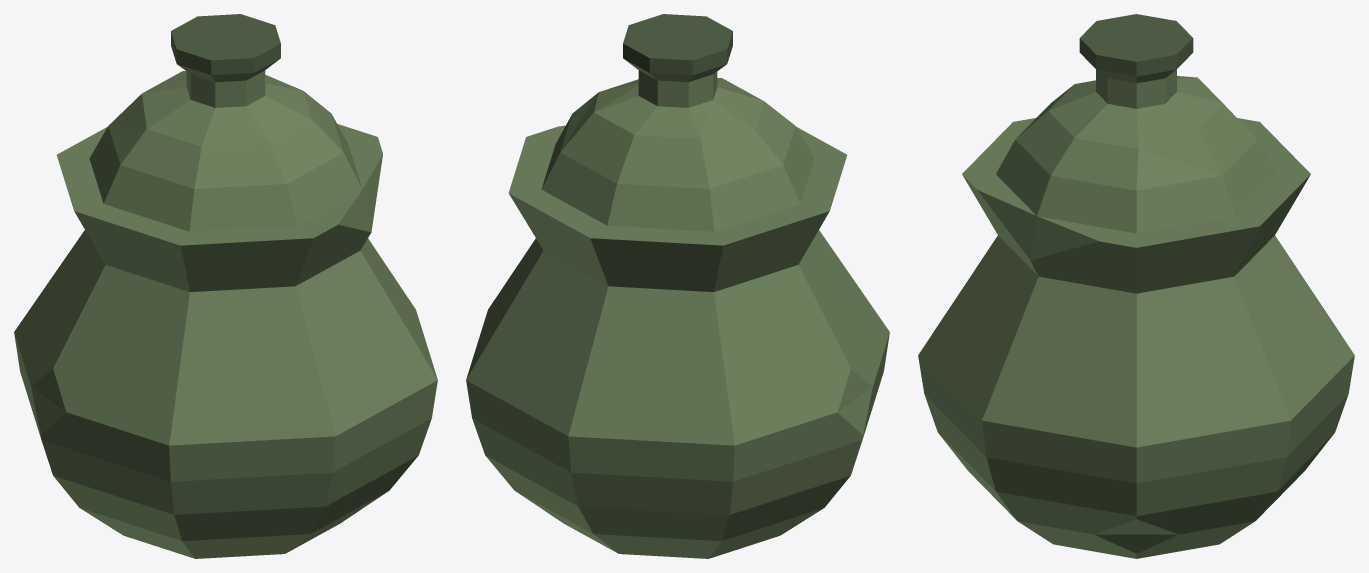
The model's file is SFHW_Jar_009.fbx.
The picture shows the model from 3 angles, left to right: view 1: azimuth 30°, elevation 25°; view 2: azimuth 150°, elevation 25°; view 3: azimuth 270°, elevation 25°; orthographic projection.
Visible parts, largest first — view 1: SFHW_Jar_009; view 2: SFHW_Jar_009; view 3: SFHW_Jar_009.
Boxes of the visible parts, x1,y1,x2,y2 form: SFHW_Jar_009: [14, 14, 437, 558]; SFHW_Jar_009: [466, 14, 889, 558]; SFHW_Jar_009: [918, 14, 1354, 558].
Bounding box in the file's own units: 15.01 × 18.09 × 15.2.
